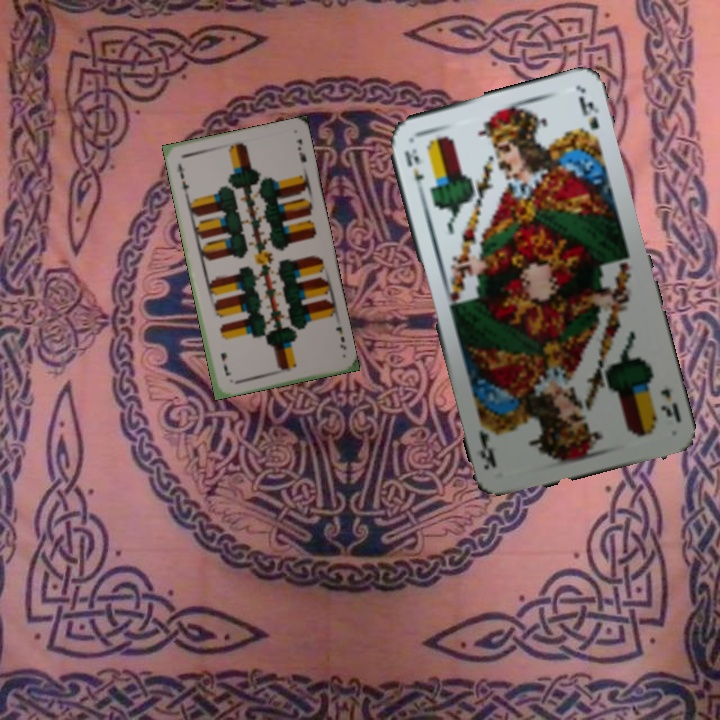E7: (174, 159, 192, 197), (331, 322, 349, 352)
EK: (400, 144, 427, 196), (656, 384, 684, 426)
